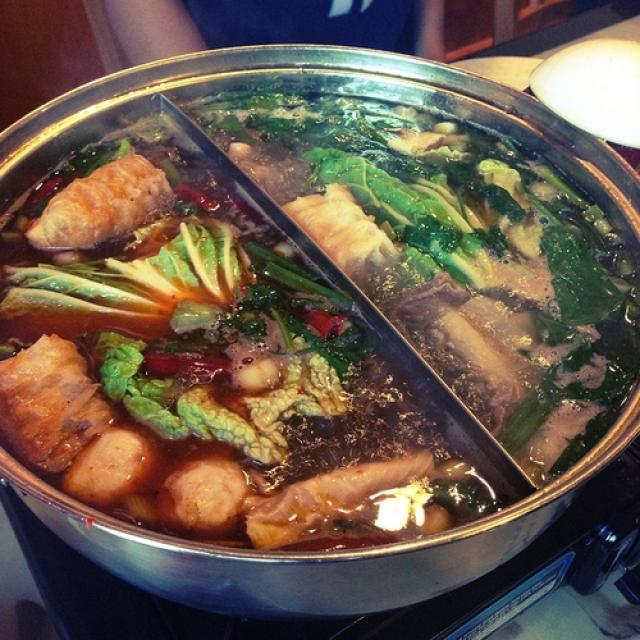汤锅炖物: (18, 32, 634, 591)
